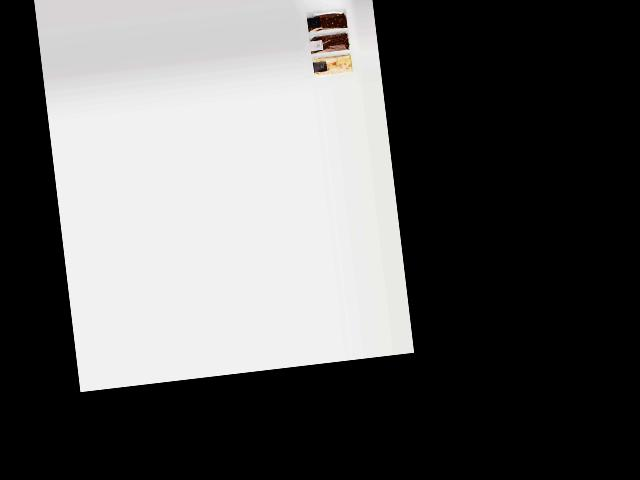chocolate: (306, 8, 349, 31)
